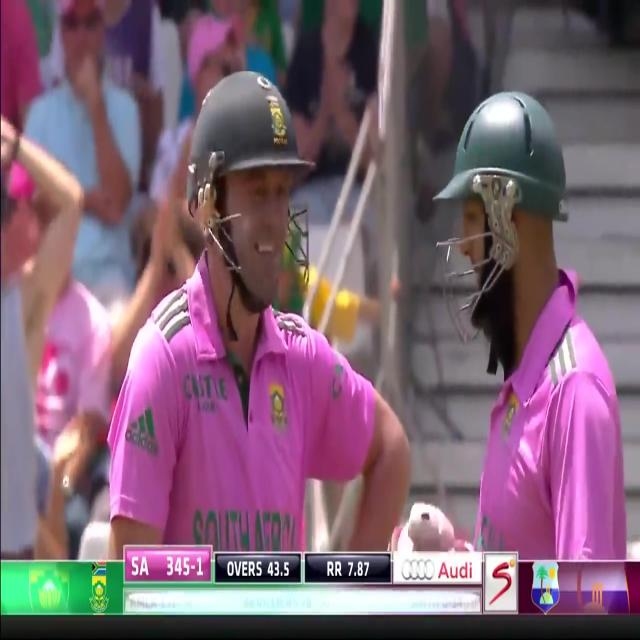Ball: (106, 69, 411, 544), (437, 97, 635, 564)
